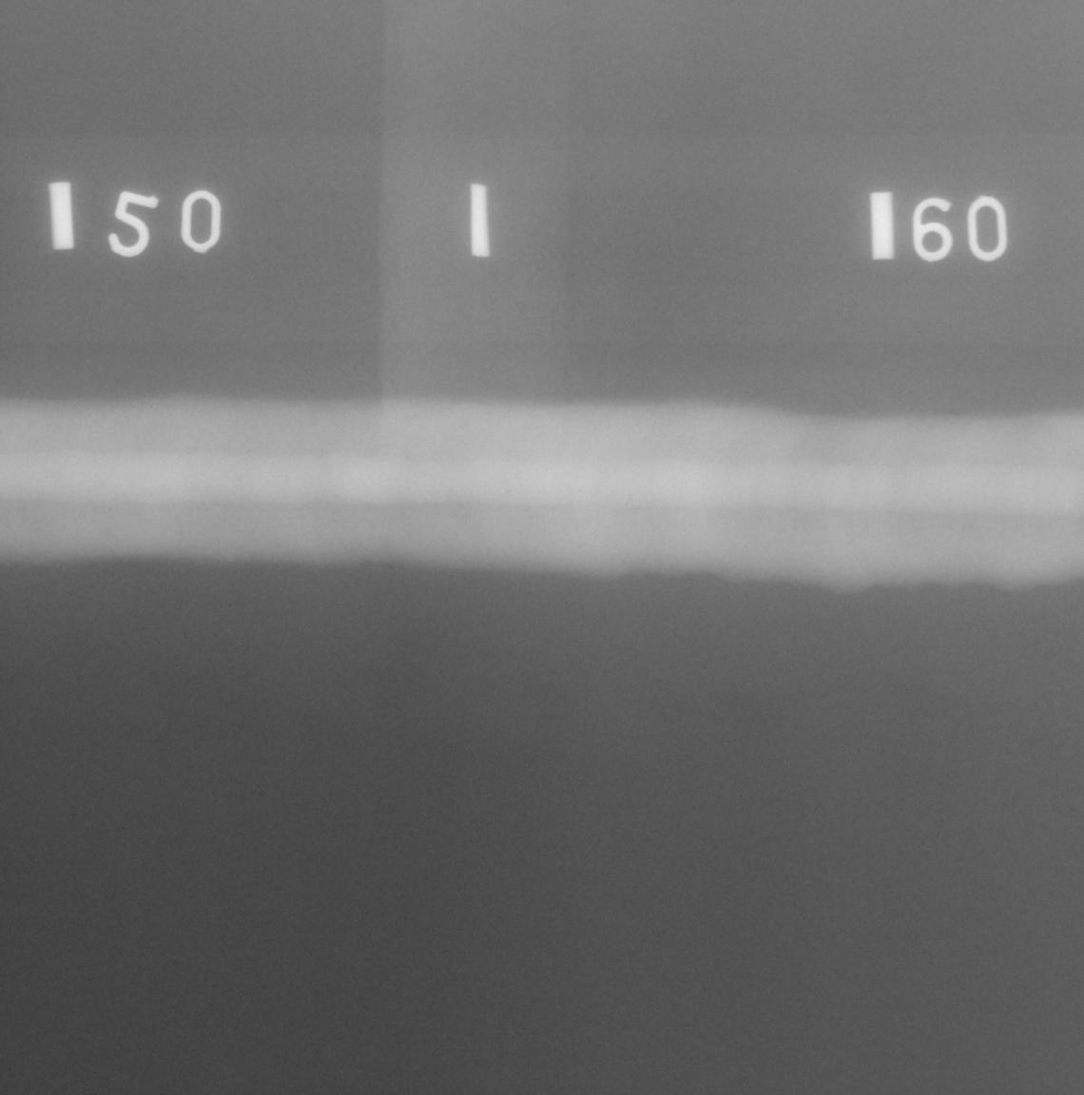Pore/Porosity: (506, 489, 509, 493)
